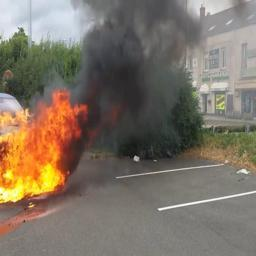fire: (1, 89, 91, 205)
